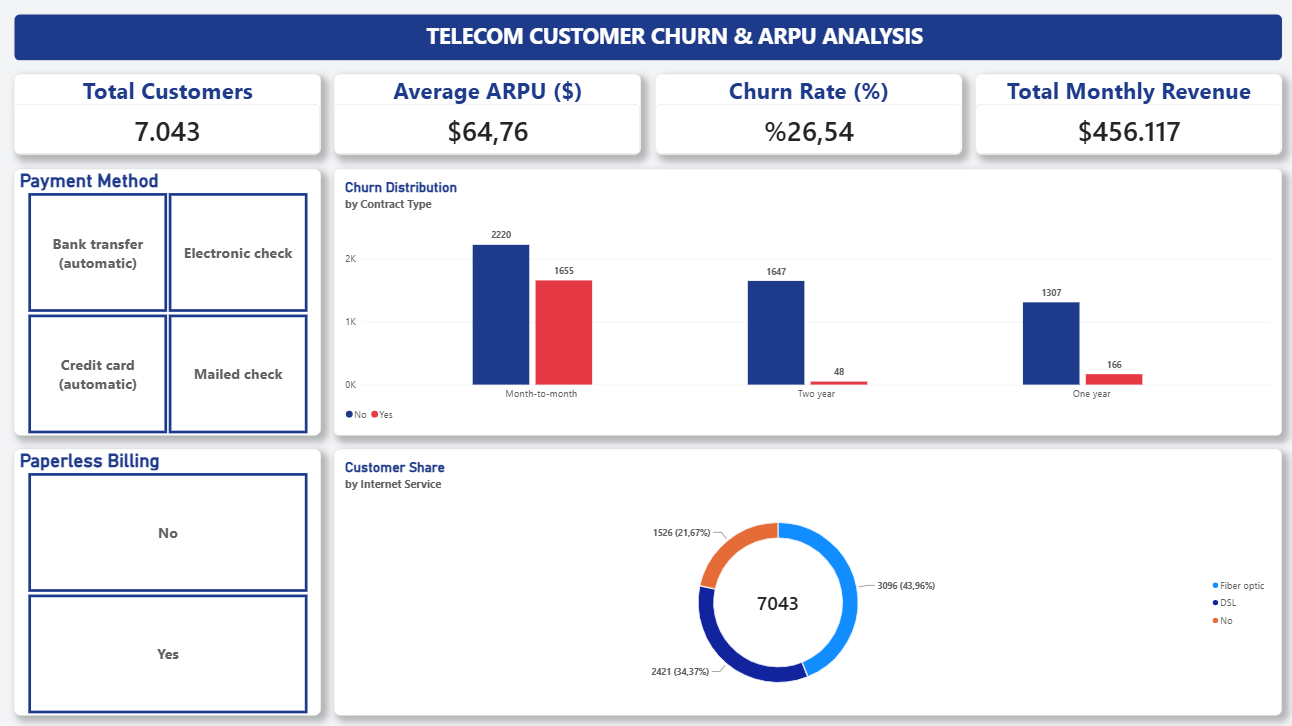

Layout of this report page (visuals, bound fields, positions):
{"tool":"powerbi","page":{"name":"1. sayfa","canvas":[1920,1080],"ordinal":0},"visuals":[{"type":"cardVisual","title":"Total Customers","fields":{"Data":["Count(WA_Fn-UseC_-Telco-Customer-Churn.customerID)"]},"box":[20,110,455,120],"z":0},{"type":"cardVisual","title":"Average ARPU ($)","fields":{"Data":["Avg(WA_Fn-UseC_-Telco-Customer-Churn.MonthlyCharges)"]},"box":[495,110,455,120],"z":1000},{"type":"cardVisual","title":"Total Monthly Revenue","fields":{"Data":["Sum(WA_Fn-UseC_-Telco-Customer-Churn.MonthlyCharges)"]},"box":[1445,110,455,120],"z":2000},{"type":"clusteredColumnChart","title":"Churn Distribution","fields":{"Category":["WA_Fn-UseC_-Telco-Customer-Churn.Contract"],"Series":["WA_Fn-UseC_-Telco-Customer-Churn.Churn"],"Y":["CountNonNull(WA_Fn-UseC_-Telco-Customer-Churn.customerID)"]},"box":[495,250,1405,395],"z":3000},{"type":"donutChart","title":"Customer Share","fields":{"Category":["WA_Fn-UseC_-Telco-Customer-Churn.InternetService"],"Y":["CountNonNull(WA_Fn-UseC_-Telco-Customer-Churn.customerID)"]},"box":[495,665,1405,395],"z":4000},{"type":"slicer","fields":{"Values":["WA_Fn-UseC_-Telco-Customer-Churn.PaymentMethod"]},"box":[20,250,455,395],"z":5000},{"type":"slicer","fields":{"Values":["WA_Fn-UseC_-Telco-Customer-Churn.PaperlessBilling"]},"box":[20,665,455,395],"z":6000},{"type":"cardVisual","title":"Churn Rate (%)","fields":{"Data":["WA_Fn-UseC_-Telco-Customer-Churn.Churn Orani"]},"box":[970,110,455,120],"z":7000},{"type":"shape","box":[20,20,1880,70],"z":8000},{"type":"textbox","box":[586.9,31.6,825.4,47.3],"z":9000}]}

Visuals, with their boxes in screenshot pixels (x1, y1, x2, y2), scaled from the page's 1920x1080 canvas onto the 1292x726 screenshot:
"Total Customers" cardVisual: l=13, t=74, r=320, b=155
"Average ARPU ($)" cardVisual: l=333, t=74, r=639, b=155
"Total Monthly Revenue" cardVisual: l=972, t=74, r=1279, b=155
"Churn Distribution" clusteredColumnChart: l=333, t=168, r=1279, b=434
"Customer Share" donutChart: l=333, t=447, r=1279, b=713
slicer - WA_Fn-UseC_-Telco-Customer-Churn.PaymentMethod: l=13, t=168, r=320, b=434
slicer - WA_Fn-UseC_-Telco-Customer-Churn.PaperlessBilling: l=13, t=447, r=320, b=713
"Churn Rate (%)" cardVisual: l=653, t=74, r=959, b=155
shape: l=13, t=13, r=1279, b=61
textbox: l=395, t=21, r=950, b=53
